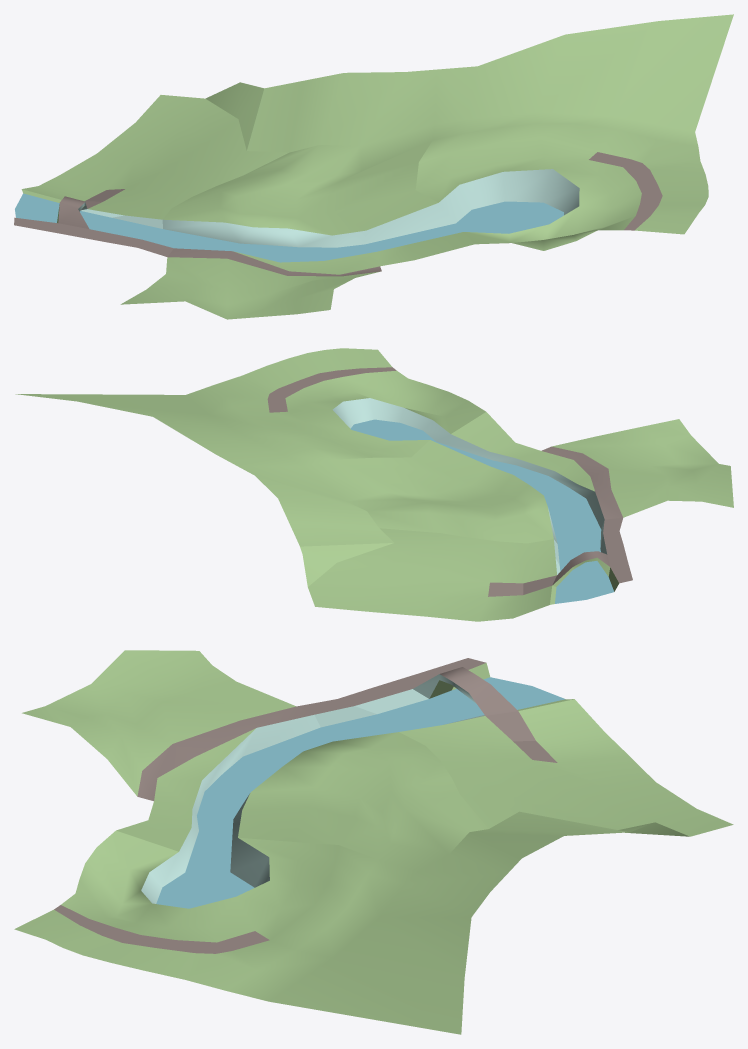
File: level_5.fbx
The picture shows the model from 3 angles, top to bottom: view 1: azimuth 30°, elevation 25°; view 2: azimuth 150°, elevation 25°; view 3: azimuth 270°, elevation 25°; orthographic projection. The views are drawn at different scales.
Parts seen in each view (by area): view 1: loc_005; view 2: loc_005; view 3: loc_005.
Part boxes in pixels (x1=…): loc_005: x1=14, y1=14, x2=733, y2=319; loc_005: x1=15, y1=348, x2=733, y2=621; loc_005: x1=14, y1=650, x2=733, y2=1034.
Size of the model in its own units: 61.59 by 6.61 by 44.02.
